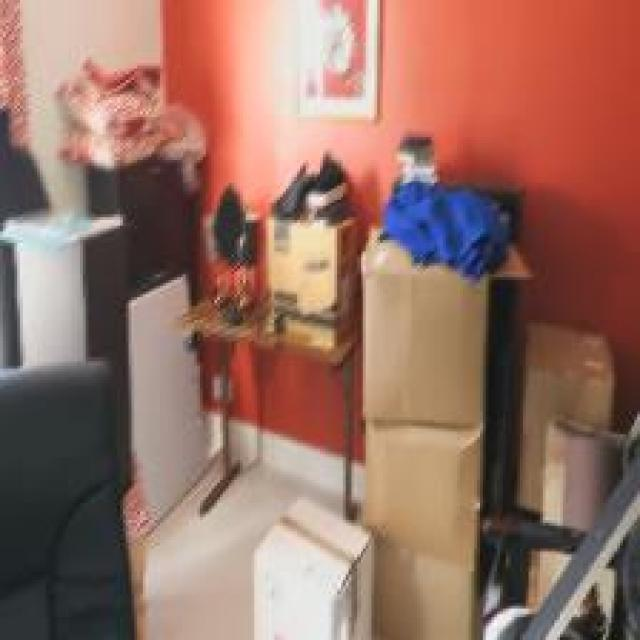other: (170, 5, 634, 171)
